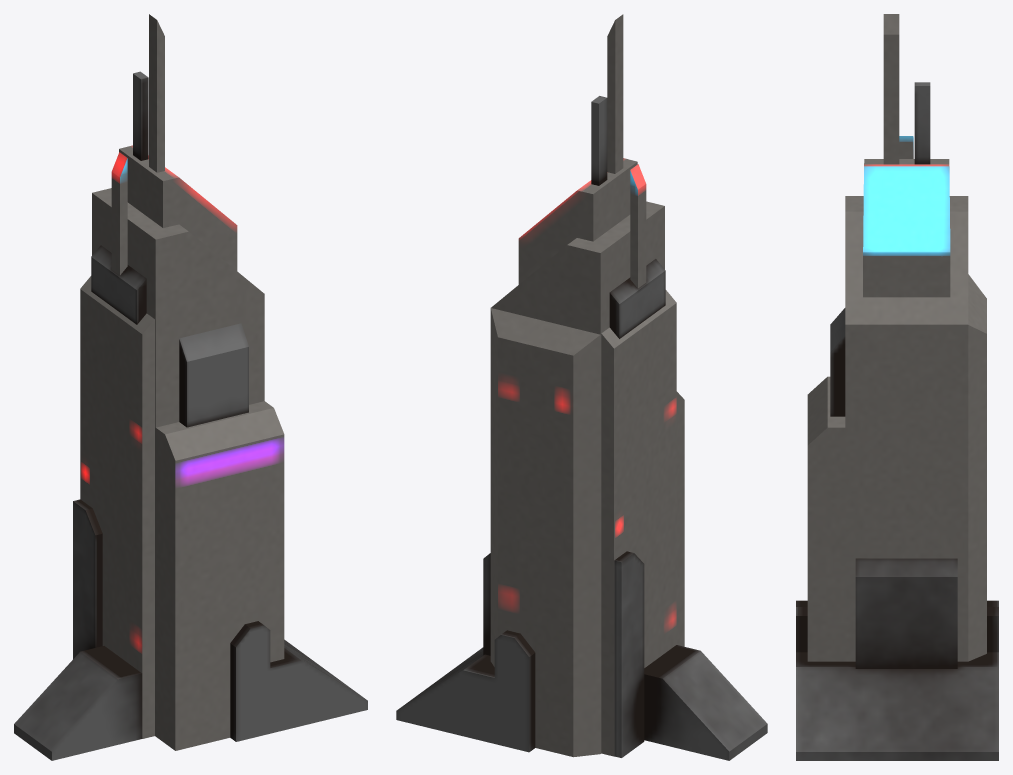
Rendered from SM_BackgroundBuilding_005.fbx.
3 renders of one model, left to right at view 1: azimuth 30°, elevation 25°; view 2: azimuth 150°, elevation 25°; view 3: azimuth 270°, elevation 25°, orthographic. The views are drawn at different scales.
Parts seen in each view (by area): view 1: SM_BackgroundBuilding_005; view 2: SM_BackgroundBuilding_005; view 3: SM_BackgroundBuilding_005.
Boxes of the visible parts, x1,y1,x2,y2 form: SM_BackgroundBuilding_005: (14,14,367,760); SM_BackgroundBuilding_005: (396,14,767,760); SM_BackgroundBuilding_005: (796,14,998,760).
Size of the model in its own units: 1700 by 1074 by 3912.
1 material, 1 textured.
